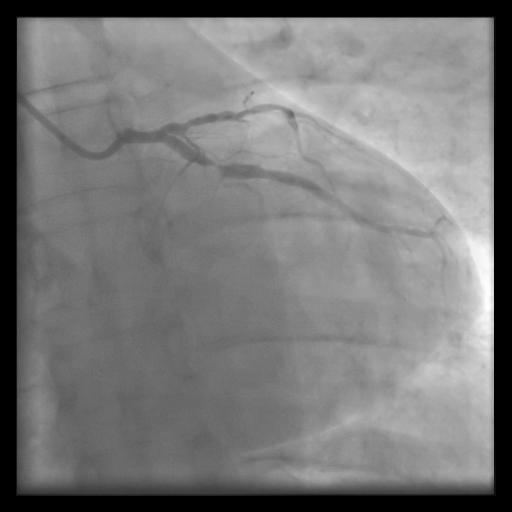Stenosis: (202, 151, 229, 180)
